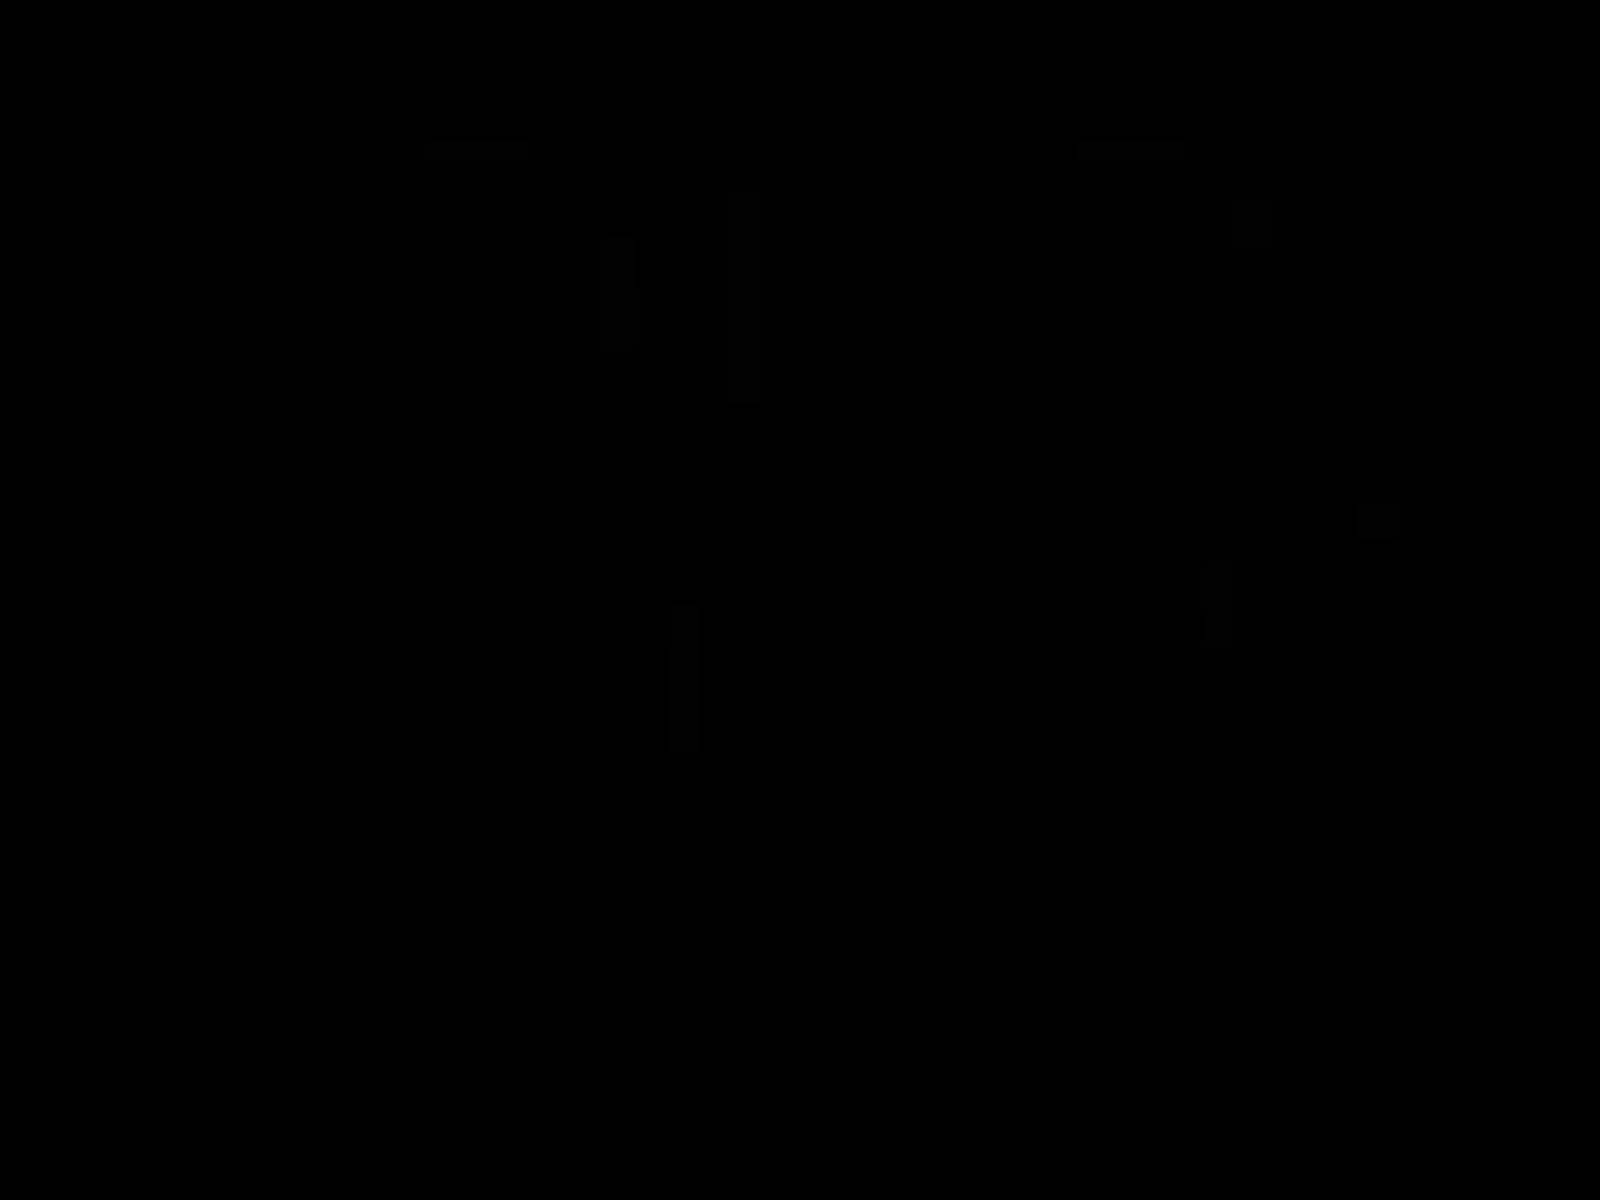1_overall: (81, 58, 1526, 1005)
3_typography: (726, 192, 762, 403), (668, 605, 700, 754), (601, 237, 636, 349), (1076, 140, 1186, 163), (1204, 563, 1233, 648), (426, 141, 529, 163), (1230, 203, 1274, 250), (1357, 502, 1398, 539)
4_illustration: (292, 287, 666, 650), (963, 187, 1271, 613), (871, 639, 1347, 802), (292, 679, 639, 753), (1306, 545, 1359, 584)
